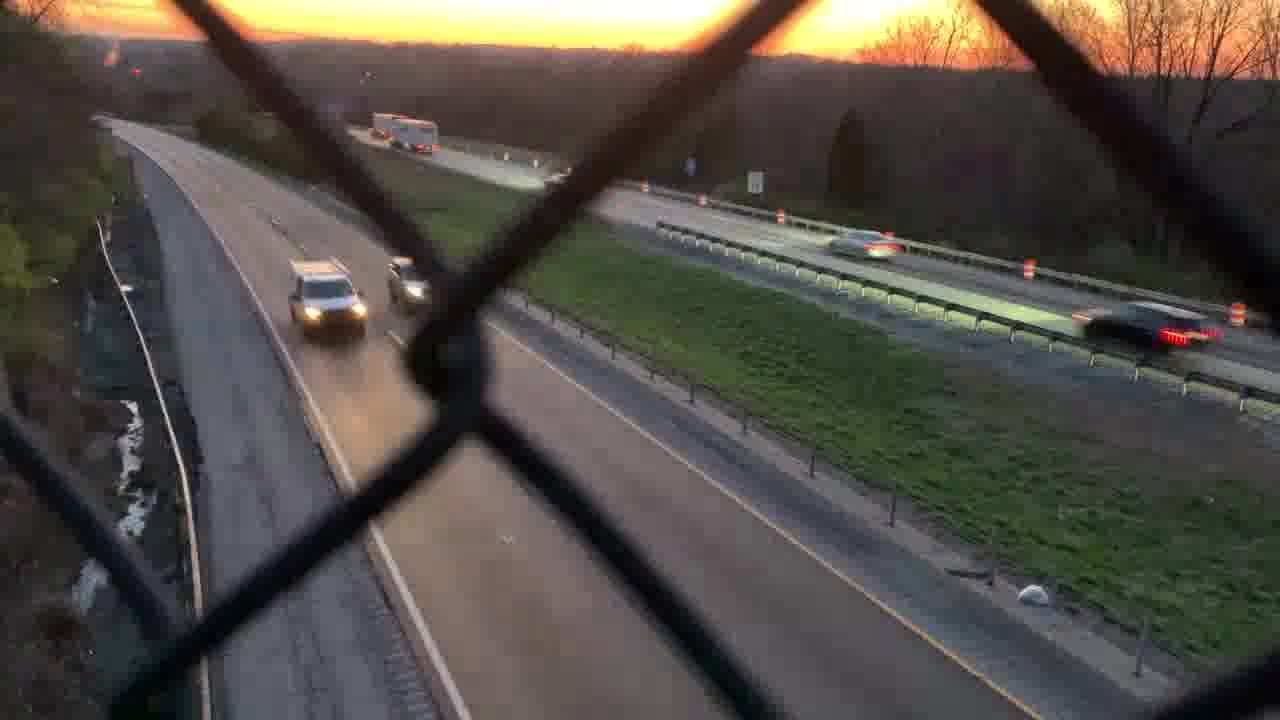heavyTruck: (387, 118, 441, 152)
lightTruck: (284, 253, 372, 337)
smallCar: (822, 228, 892, 260)
